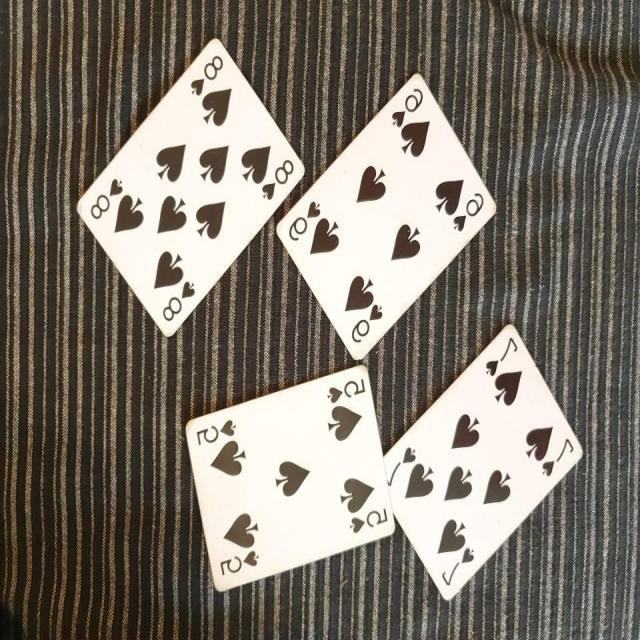5 of spades: (182, 357, 398, 600)
6 of spades: (265, 59, 507, 376)
7 of spades: (376, 308, 590, 606)
8 of spades: (66, 30, 308, 343)
